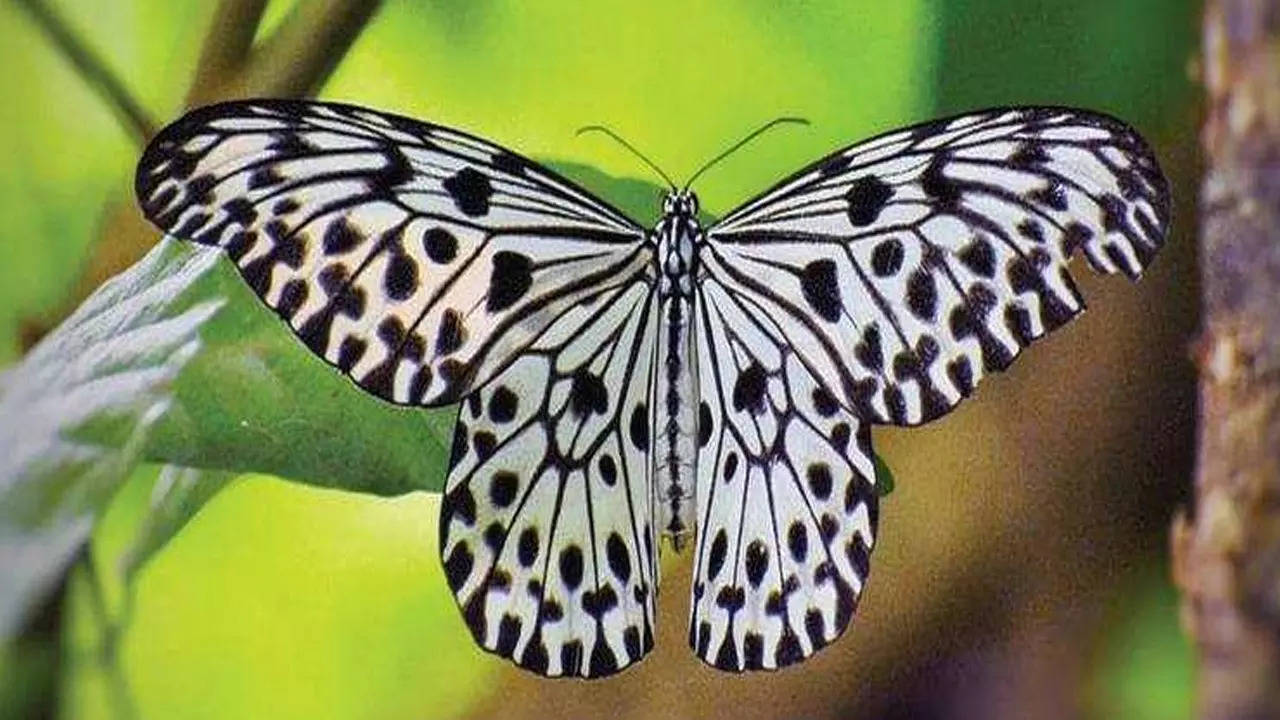Butterfly: (140, 99, 1167, 674)
